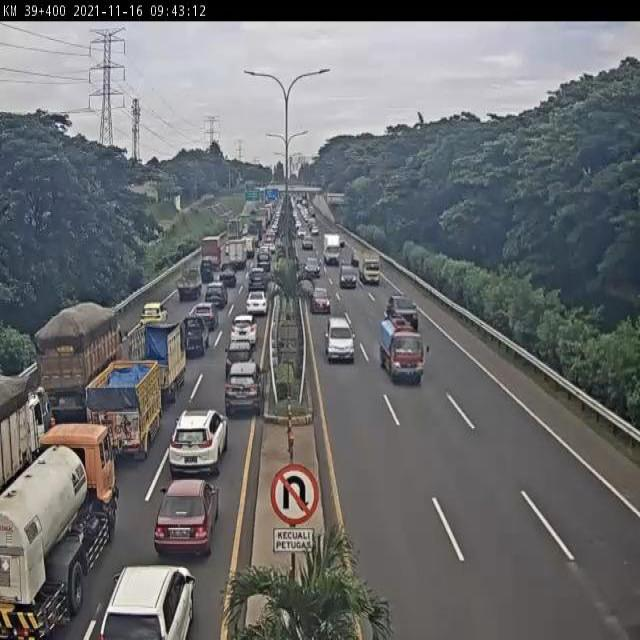car: (97, 556, 201, 640), (152, 476, 219, 560), (166, 405, 228, 472), (220, 360, 268, 421), (380, 288, 421, 329), (221, 338, 258, 382), (325, 316, 354, 363), (187, 299, 221, 332), (137, 302, 168, 334), (230, 314, 261, 346), (241, 287, 269, 316), (174, 267, 200, 297), (203, 280, 229, 308), (218, 260, 240, 291), (309, 283, 331, 313), (337, 261, 360, 287), (301, 256, 323, 280), (248, 268, 269, 291), (300, 232, 317, 252)
small truck: (378, 319, 425, 384), (177, 315, 211, 357), (359, 247, 385, 289), (321, 233, 342, 267)
truck-l-: (34, 300, 126, 423), (0, 369, 51, 491)
truck-m-: (0, 417, 124, 640), (87, 360, 163, 460), (128, 322, 193, 407)
